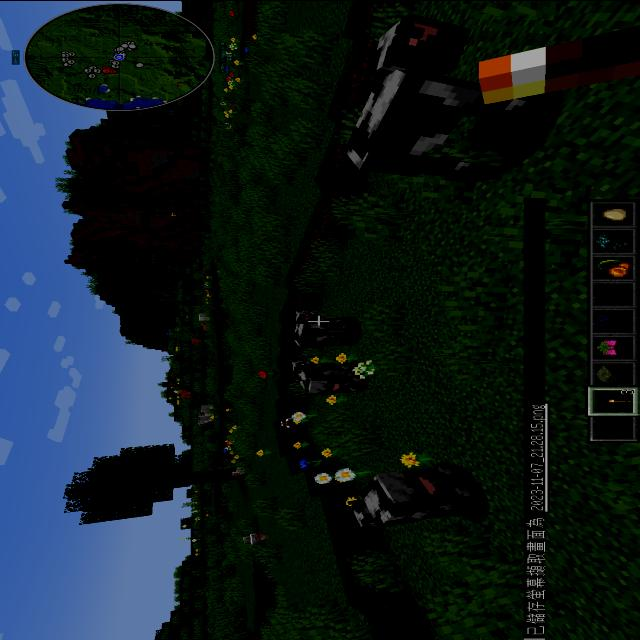chicken: (240, 530, 262, 546), (228, 462, 250, 477), (254, 531, 272, 541)
cow: (332, 8, 570, 189), (344, 460, 491, 533), (284, 355, 372, 397), (286, 308, 364, 350)
pig: (177, 388, 194, 400), (188, 334, 204, 344), (199, 321, 211, 332)
